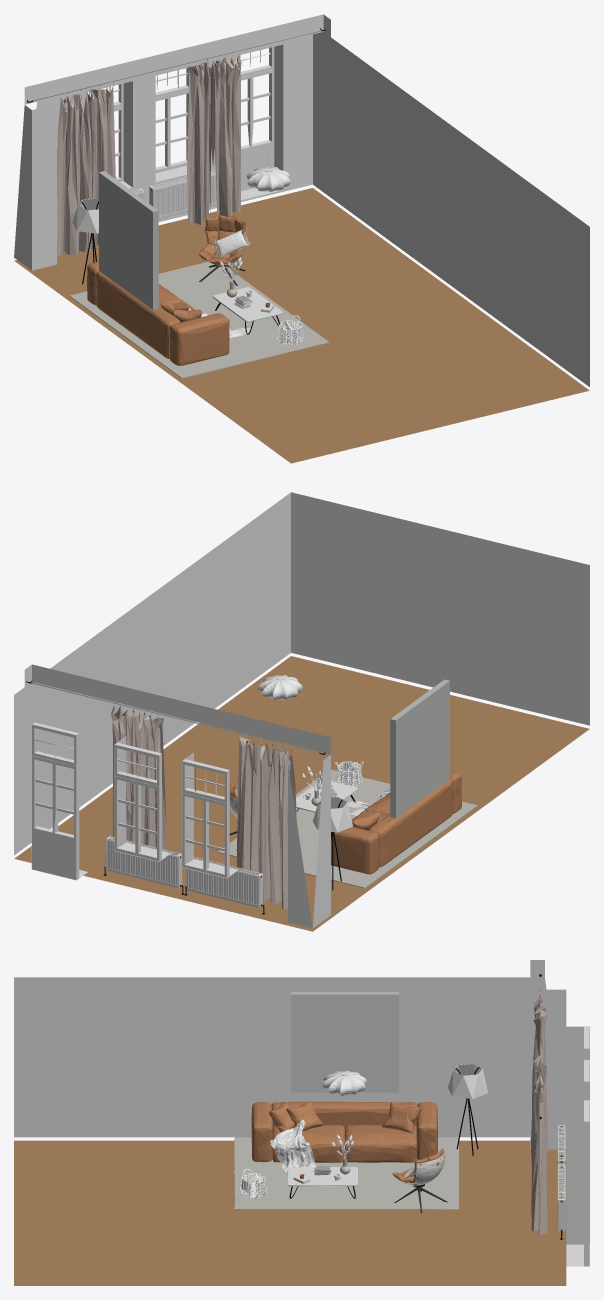
File: salon-cosy.glb
The picture shows the model from 3 angles, top to bottom: view 1: azimuth 30°, elevation 25°; view 2: azimuth 150°, elevation 25°; view 3: azimuth 270°, elevation 25°; orthographic projection.
Size of the model in its own units: 5.67 by 3.29 by 9.5.
